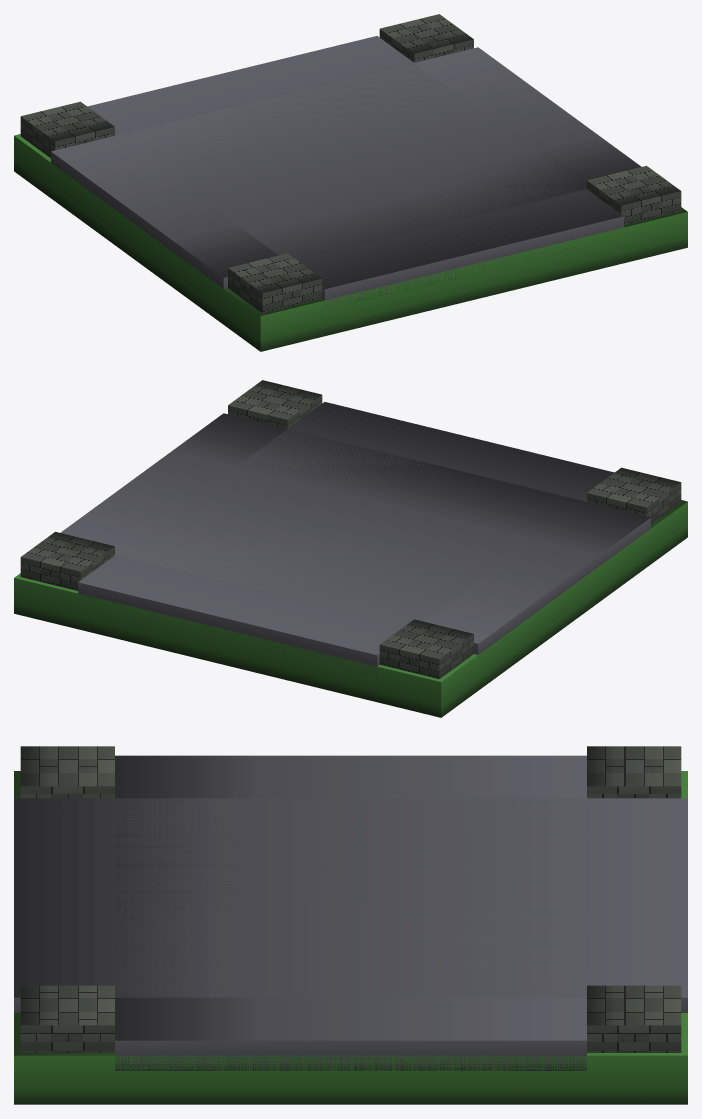
File: road_cross.gltf
3 renders of one model, top to bottom at view 1: azimuth 30°, elevation 25°; view 2: azimuth 150°, elevation 25°; view 3: azimuth 270°, elevation 25°, orthographic. The views are drawn at different scales.
Visible parts, largest first — view 1: road_cross; view 2: road_cross; view 3: road_cross.
Boxes of the visible parts, x1,y1,x2,y2 form: road_cross: (14, 14, 687, 351); road_cross: (14, 380, 687, 717); road_cross: (14, 746, 687, 1104).
Size of the model in its own units: 1 by 0.125 by 1.
Materials: 1 (1 with a texture image).
